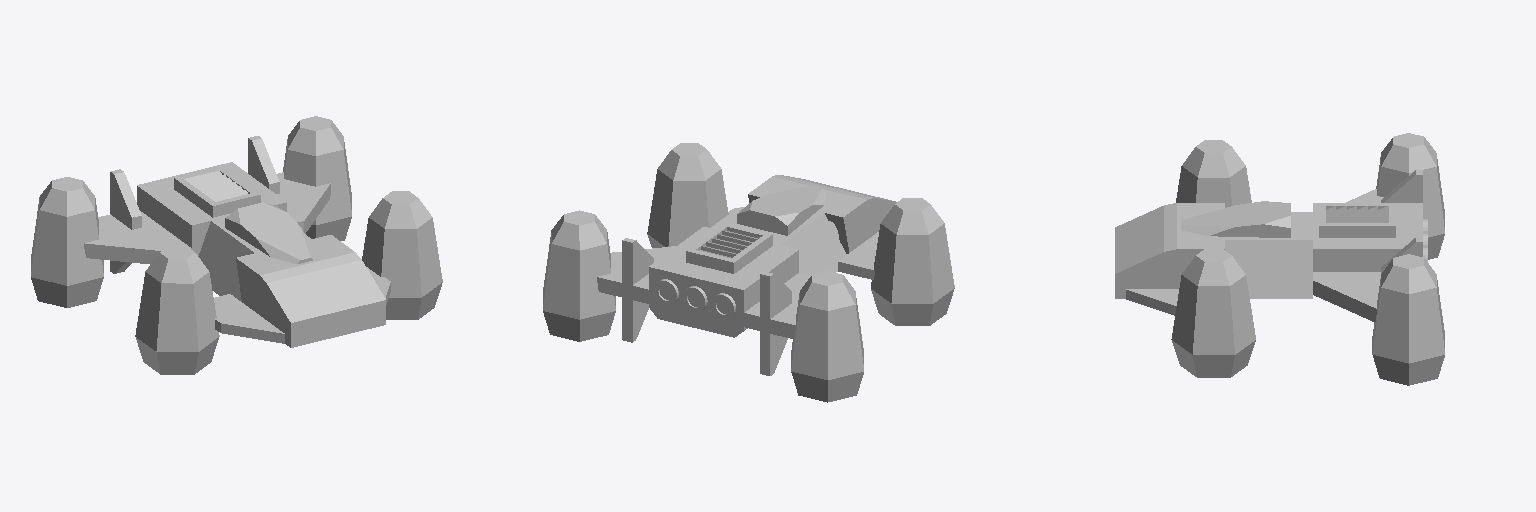
File: drone_3.obj
3 renders of one model, left to right at view 1: azimuth 30°, elevation 25°; view 2: azimuth 150°, elevation 25°; view 3: azimuth 270°, elevation 25°, orthographic.
Parts seen in each view (by area): view 1: engine_intakeArrow_5, engine_airplane%_23, engine_airplane%_21, engine_airplane%_22, engine_airplane%_19, plane_rudderLarge_17, ship_hull_27, glass_high_10, plane_rudderLarge_16, air_vent_33, engine_intake_7, plane_elevator_13; view 2: engine_airplane%_23, engine_airplane%_21, engine_airplane%_19, ship_hull_27, engine_airplane%_22, engine_intakeArrow_5, plane_rudderLarge_17, plane_rudderLarge_16, glass_high_10, air_vent_33, engine_intake_7, plane_elevator_13; view 3: engine_airplane%_22, engine_airplane%_19, engine_intakeArrow_5, engine_intake_7, ship_hull_27, engine_airplane%_21, engine_airplane%_23, glass_high_10, plane_rudderLarge_16, air_vent_33, plane_rudderLarge_17, plane_elevator_12.
Boxes of the visible parts, x1,y1,x2,y2 form: engine_intakeArrow_5: [236, 235, 385, 347]; engine_airplane%_23: [135, 246, 219, 374]; engine_airplane%_21: [31, 177, 103, 307]; engine_airplane%_22: [362, 191, 442, 319]; engine_airplane%_19: [283, 116, 351, 240]; plane_rudderLarge_17: [84, 169, 191, 273]; ship_hull_27: [137, 162, 286, 255]; glass_high_10: [225, 202, 313, 263]; plane_rudderLarge_16: [248, 136, 330, 233]; air_vent_33: [174, 166, 260, 217]; engine_intake_7: [198, 217, 310, 301]; plane_elevator_13: [214, 294, 284, 343]; engine_airplane%_23: [871, 198, 954, 325]; engine_airplane%_21: [791, 271, 863, 402]; engine_airplane%_19: [543, 210, 615, 341]; ship_hull_27: [649, 227, 798, 337]; engine_airplane%_22: [647, 143, 728, 247]; engine_intakeArrow_5: [748, 175, 896, 253]; plane_rudderLarge_17: [744, 272, 810, 375]; plane_rudderLarge_16: [597, 238, 675, 342]; glass_high_10: [737, 185, 825, 235]; air_vent_33: [686, 223, 772, 273]; engine_intake_7: [732, 209, 846, 275]; plane_elevator_13: [838, 232, 878, 279]; engine_airplane%_22: [1171, 249, 1255, 377]; engine_airplane%_19: [1372, 254, 1444, 385]; engine_intakeArrow_5: [1115, 203, 1224, 298]; engine_intake_7: [1224, 212, 1312, 298]; ship_hull_27: [1313, 203, 1422, 271]; engine_airplane%_21: [1376, 133, 1444, 259]; engine_airplane%_23: [1176, 140, 1251, 207]; glass_high_10: [1181, 201, 1290, 237]; plane_rudderLarge_16: [1313, 237, 1422, 321]; air_vent_33: [1319, 203, 1395, 237]; plane_rudderLarge_17: [1346, 170, 1422, 202]; plane_elevator_12: [1126, 289, 1178, 315].
Size of the model in its own units: 3.37 by 1.1 by 3.